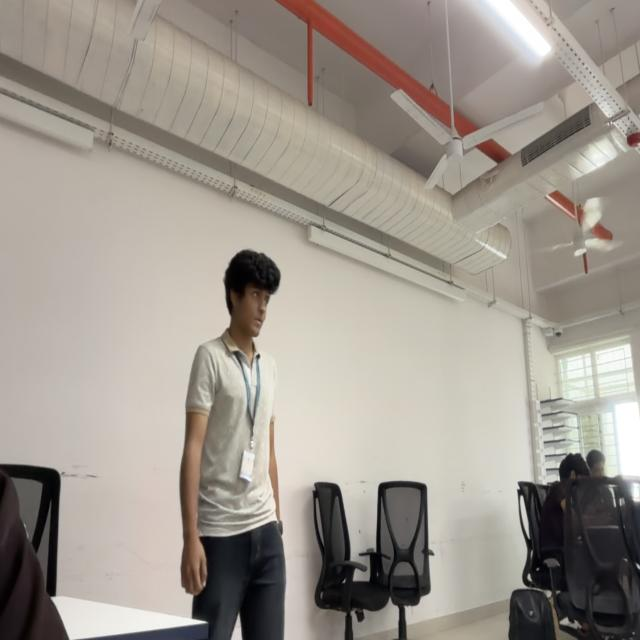kshitij: (223, 249, 281, 337)
